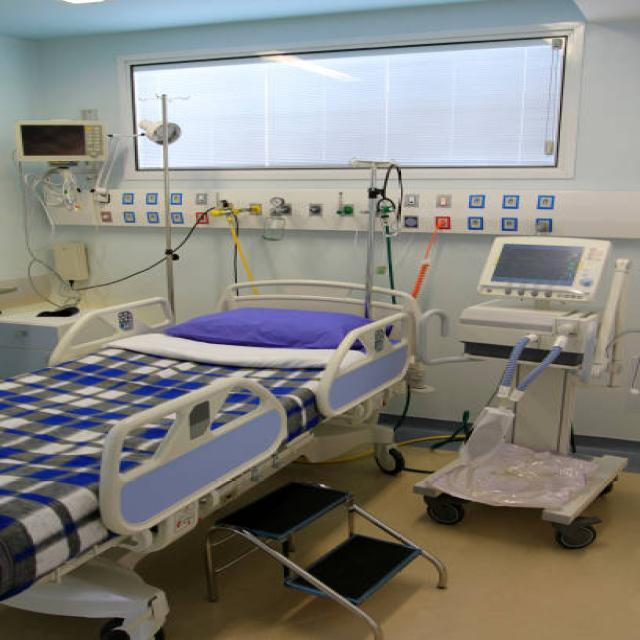Monitor: (417, 236, 632, 541), (0, 107, 124, 234)
bed: (0, 279, 420, 640)
stool: (193, 461, 459, 640)
